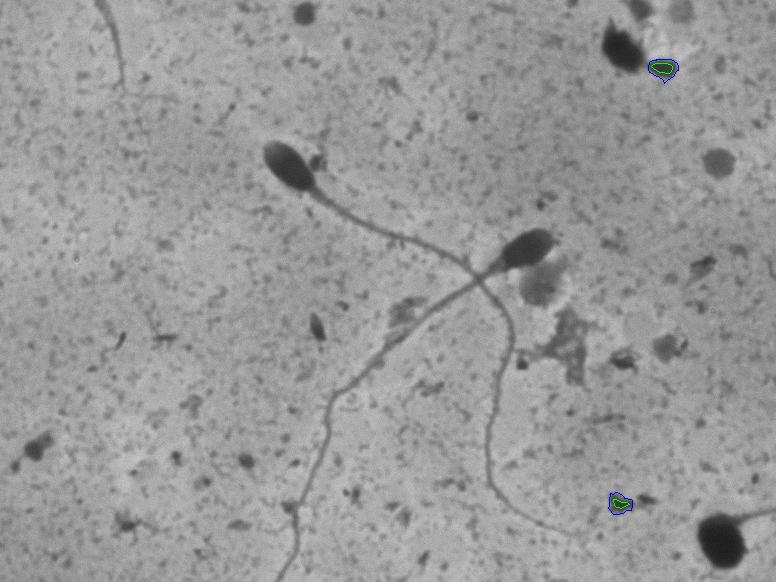Normal: (234, 118, 602, 550), (264, 214, 566, 571)
